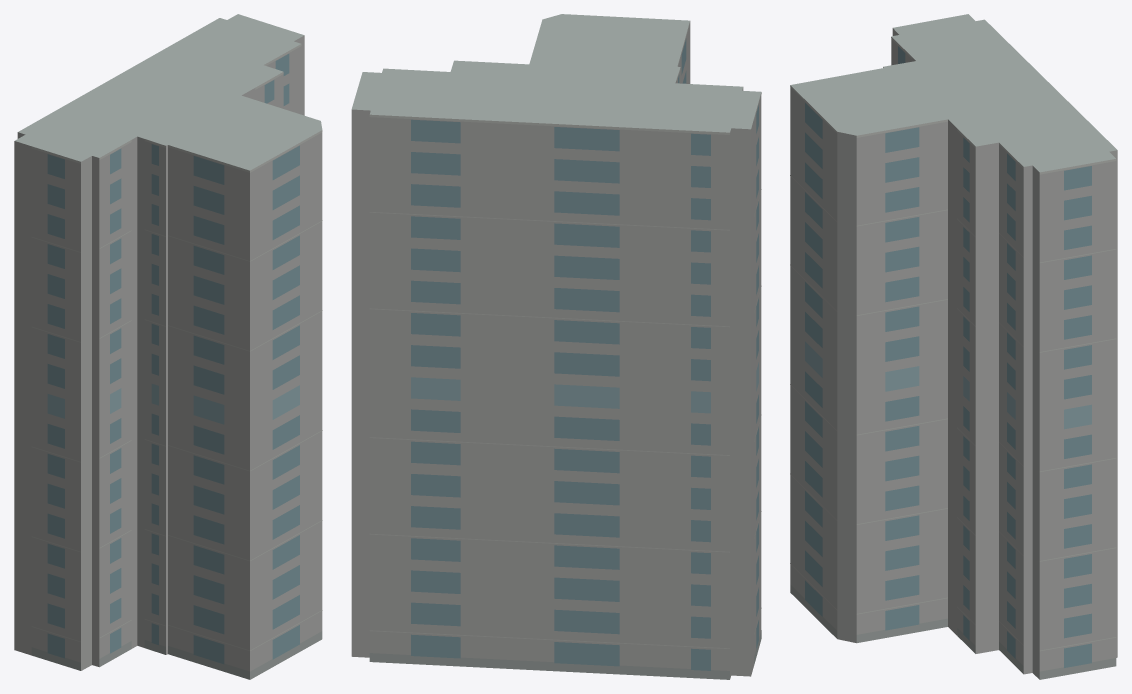
Rendered from survey-upis-32989398.glb.
3 views of the same model, side by side, from view 1: azimuth 30°, elevation 25°; view 2: azimuth 150°, elevation 25°; view 3: azimuth 270°, elevation 25° (orthographic). The views are drawn at different scales.
Parts seen in each view (by area): view 1: survey-upis-32989398.tmp; view 2: survey-upis-32989398.tmp; view 3: survey-upis-32989398.tmp.
Boxes of the visible parts, x1=… form: survey-upis-32989398.tmp: x1=14, y1=14, x2=322, y2=679; survey-upis-32989398.tmp: x1=351, y1=14, x2=761, y2=679; survey-upis-32989398.tmp: x1=790, y1=14, x2=1117, y2=679.
Bounding box in the file's own units: 37.24 × 55.6 × 32.53.
